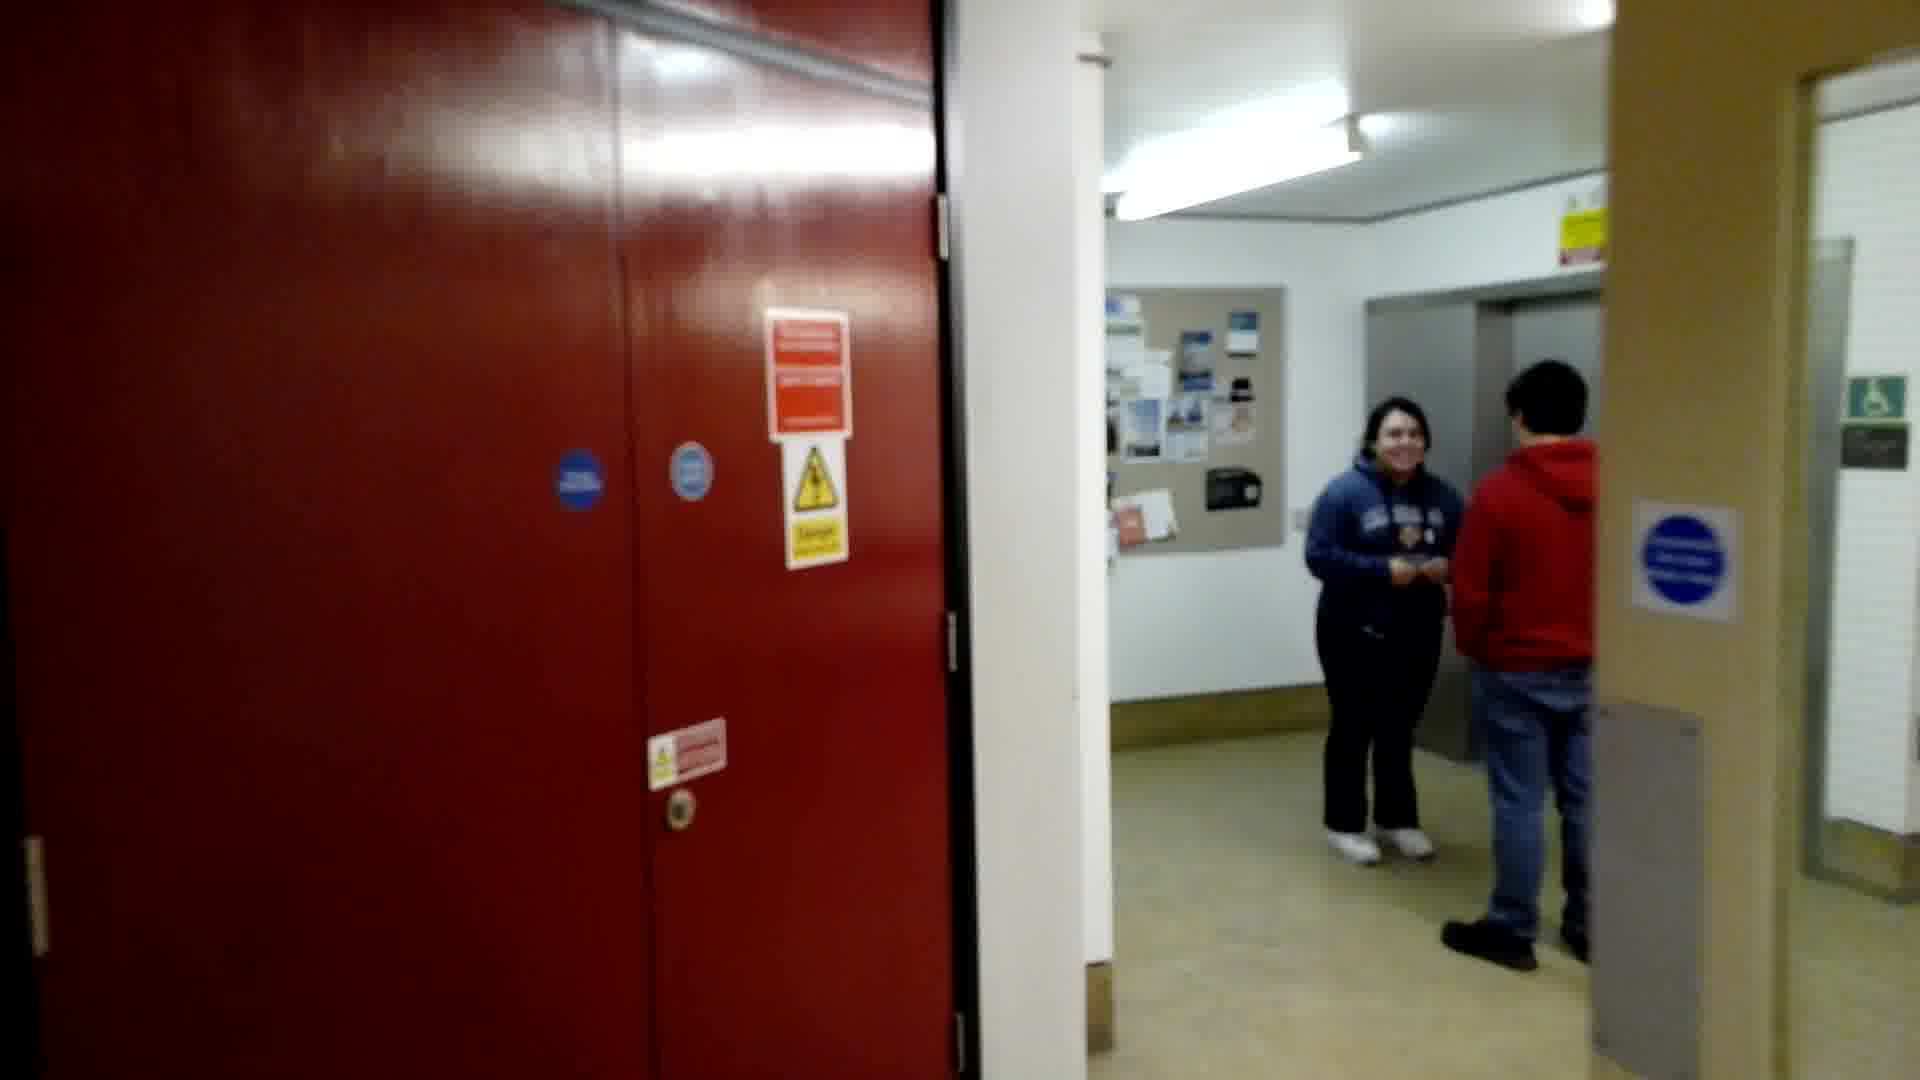Person: (1457, 358, 1593, 962), (1305, 394, 1460, 879)
